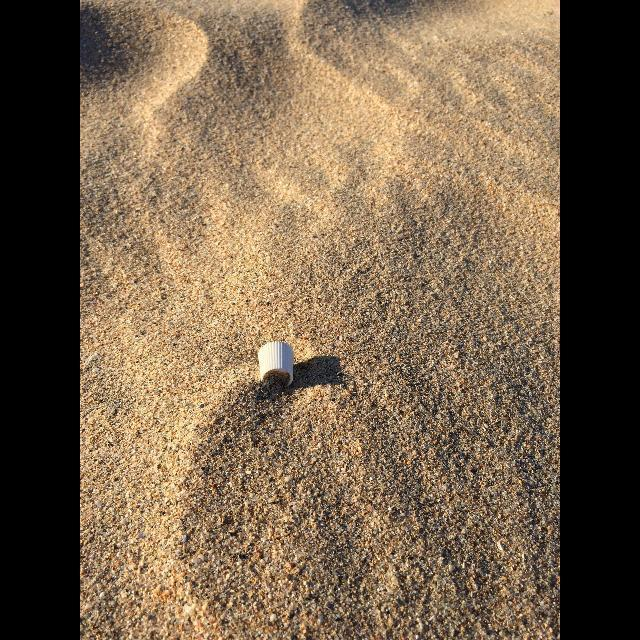Plastic: (258, 342, 294, 386)
